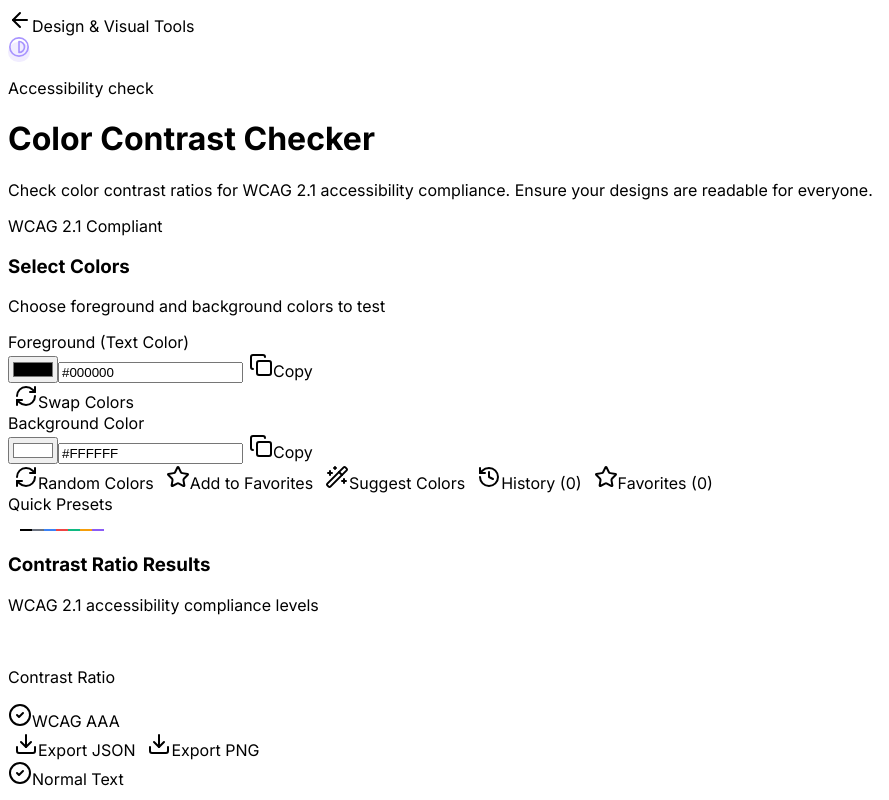
Test: Color Contrast Checker - Functionality Tests › should generate random colors
Step 1. Click the button "Random Colors" → point(84, 479), box [8,464,160,494]
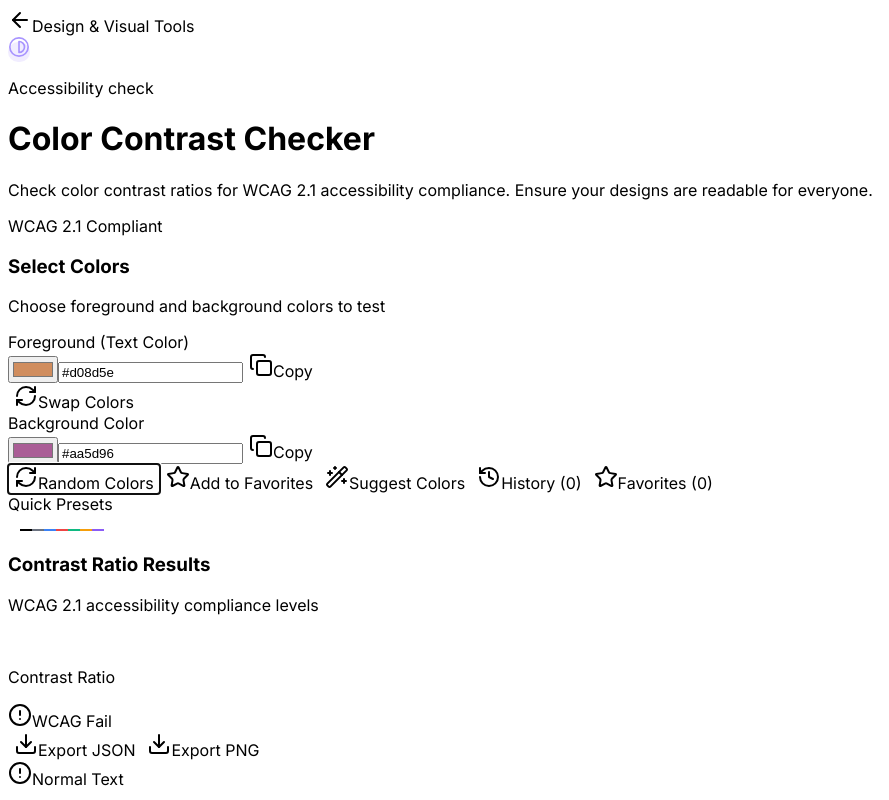
Expected: the field with placeholder "#000000" below "Foreground (Text Color)" does not hold "#000000", [58,362,243,383]
Expected: the 2nd field with placeholder "#FFFFFF" does not hold "#FFFFFF", [58,443,243,464]
